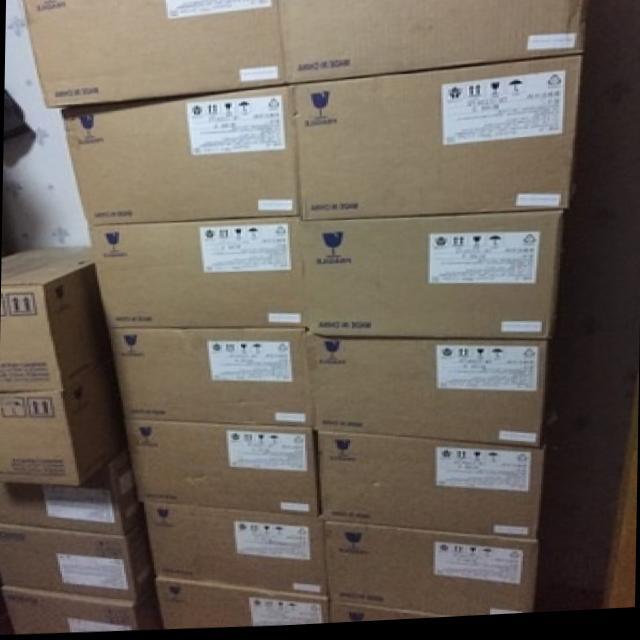box: (292, 63, 583, 225), (302, 219, 563, 346), (57, 90, 299, 226), (19, 0, 284, 109), (307, 341, 546, 453), (274, 0, 586, 85), (315, 433, 541, 545), (88, 221, 308, 330), (324, 521, 538, 621), (110, 330, 313, 430), (124, 422, 321, 521), (0, 351, 126, 488), (142, 506, 327, 599), (1, 246, 109, 390), (0, 447, 143, 537), (0, 522, 160, 601), (157, 579, 329, 629), (0, 585, 163, 633), (328, 599, 455, 625)
